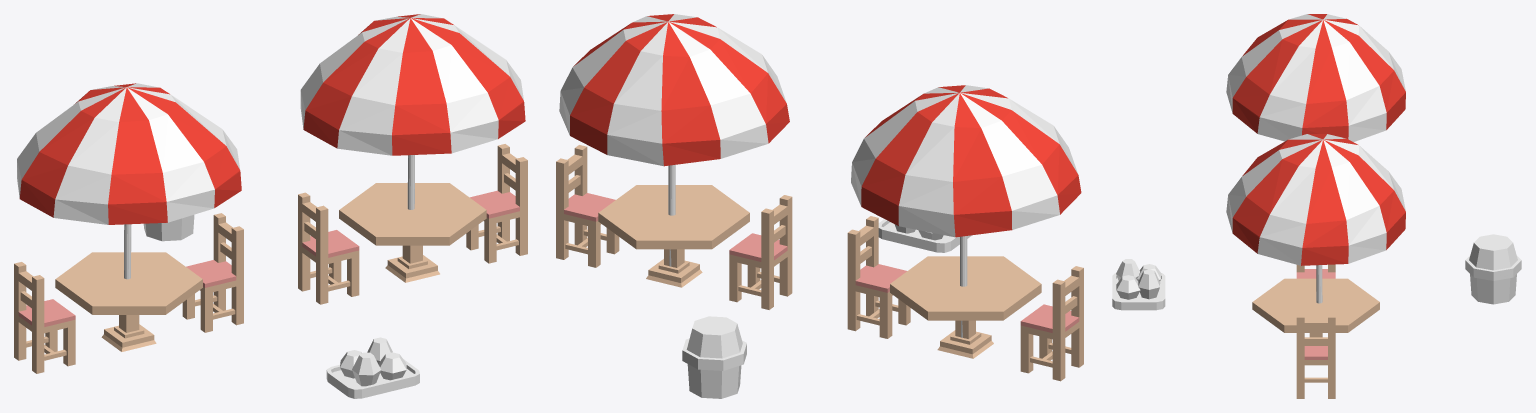
File: combo-food-drink-zone.glb
3 views of the same model, side by side, from view 1: azimuth 30°, elevation 25°; view 2: azimuth 150°, elevation 25°; view 3: azimuth 270°, elevation 25° (orthographic). The views are drawn at different scales.
Visible parts, largest first — view 1: 07_asset-073, 06_asset-073, 01_asset-003, 00_asset-003, 02_asset-026, 04_asset-026, 05_asset-026, 03_asset-026, 08_asset-045, 09_asset-051; view 2: 07_asset-073, 06_asset-073, 01_asset-003, 00_asset-003, 04_asset-026, 02_asset-026, 03_asset-026, 05_asset-026, 09_asset-051, 08_asset-045; view 3: 07_asset-073, 06_asset-073, 01_asset-003, 09_asset-051, 05_asset-026, 08_asset-045, 04_asset-026.
Boxes of the visible parts, x1,y1,x2,y2 form: 07_asset-073: [300, 14, 525, 209]; 06_asset-073: [17, 83, 241, 279]; 01_asset-003: [339, 183, 486, 282]; 00_asset-003: [55, 252, 202, 351]; 02_asset-026: [14, 262, 75, 373]; 04_asset-026: [298, 192, 359, 304]; 05_asset-026: [466, 144, 527, 263]; 03_asset-026: [182, 213, 243, 332]; 08_asset-045: [326, 337, 419, 398]; 09_asset-051: [143, 215, 194, 241]; 07_asset-073: [559, 14, 789, 266]; 06_asset-073: [851, 85, 1081, 337]; 01_asset-003: [598, 185, 749, 287]; 00_asset-003: [890, 256, 1041, 358]; 04_asset-026: [729, 195, 792, 309]; 02_asset-026: [1020, 266, 1083, 381]; 03_asset-026: [847, 216, 910, 338]; 05_asset-026: [556, 145, 619, 267]; 09_asset-051: [682, 316, 746, 398]; 08_asset-045: [878, 219, 971, 252]; 07_asset-073: [1226, 134, 1405, 303]; 06_asset-073: [1226, 14, 1405, 141]; 01_asset-003: [1252, 278, 1379, 337]; 09_asset-051: [1465, 234, 1521, 304]; 05_asset-026: [1296, 314, 1335, 398]; 08_asset-045: [1112, 259, 1165, 310]; 04_asset-026: [1296, 264, 1335, 278].
Bounding box in the file's own units: 5.54 × 2.69 × 4.62.
